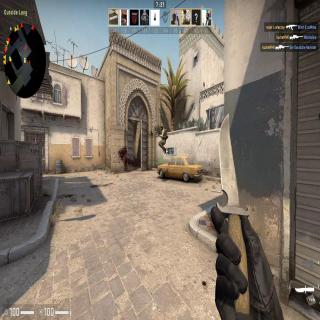CT-Body: (156, 123, 169, 151)
CT-Head: (160, 124, 163, 130)
